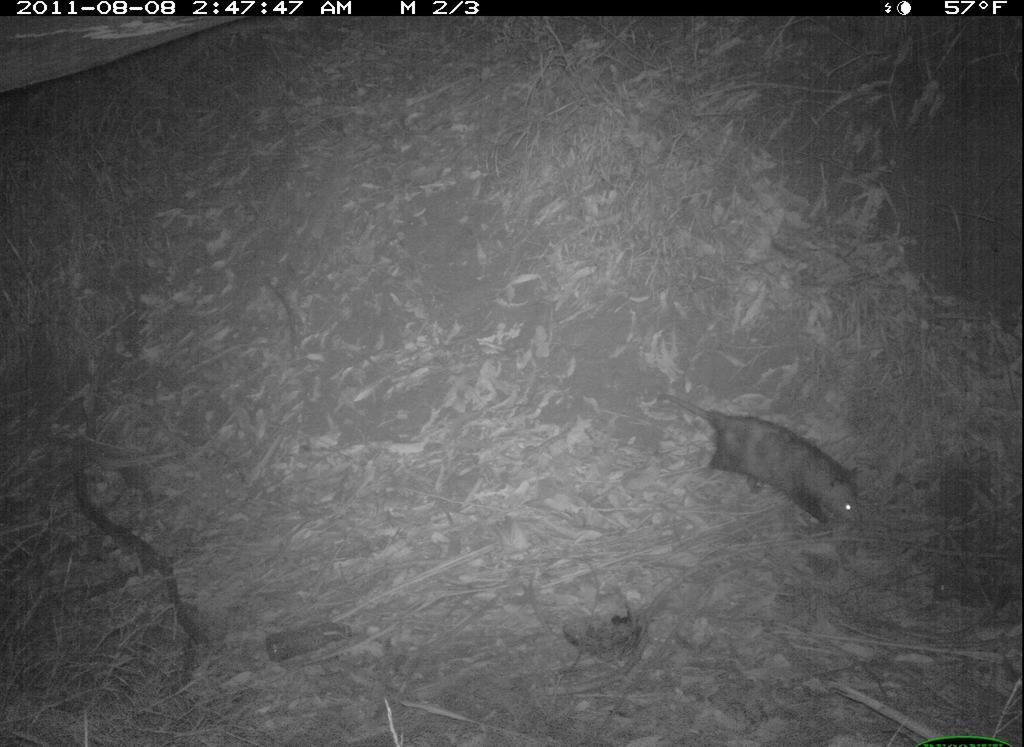opossum: (657, 377, 868, 528)
